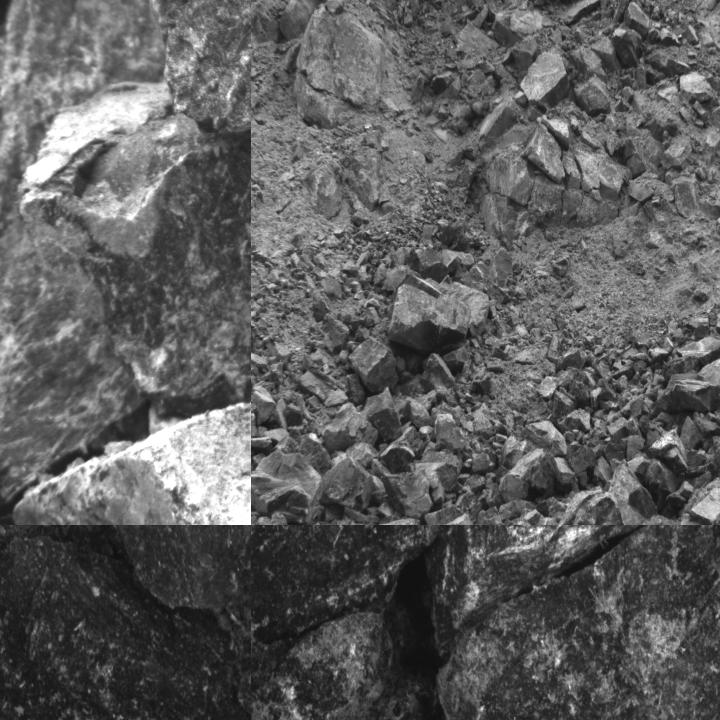stone: (18, 84, 250, 417), (434, 525, 719, 719), (0, 533, 250, 719), (427, 525, 703, 654), (11, 384, 250, 524), (251, 525, 437, 649), (89, 525, 250, 634), (251, 612, 393, 719), (147, 0, 250, 135), (297, 671, 442, 719), (408, 270, 492, 339), (388, 284, 470, 354), (251, 451, 325, 524), (324, 452, 392, 511), (568, 143, 632, 200), (662, 356, 719, 415), (373, 463, 431, 520), (270, 425, 331, 476), (498, 448, 557, 500), (519, 52, 571, 110), (349, 338, 400, 396), (663, 337, 719, 388), (521, 122, 565, 183), (557, 486, 627, 524), (494, 434, 542, 483), (362, 387, 404, 443), (380, 425, 425, 474), (515, 419, 569, 458), (430, 397, 466, 452), (647, 429, 688, 474), (409, 245, 452, 284), (573, 77, 613, 115), (421, 353, 455, 396), (668, 175, 702, 216), (547, 390, 575, 434), (535, 491, 576, 521), (536, 115, 574, 146), (463, 506, 524, 524), (442, 249, 475, 282), (689, 488, 719, 524), (462, 260, 496, 291), (567, 440, 596, 474), (568, 372, 594, 409), (252, 384, 275, 424), (472, 446, 499, 475), (681, 415, 702, 451), (618, 398, 650, 419), (457, 491, 482, 516), (606, 416, 627, 442), (594, 456, 611, 486), (627, 435, 647, 460), (435, 513, 476, 524), (465, 474, 487, 492), (605, 442, 627, 460), (367, 517, 422, 524), (264, 510, 291, 524), (419, 425, 435, 446), (534, 516, 559, 524)
